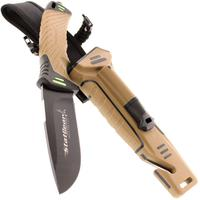knife: (34, 1, 92, 200)
